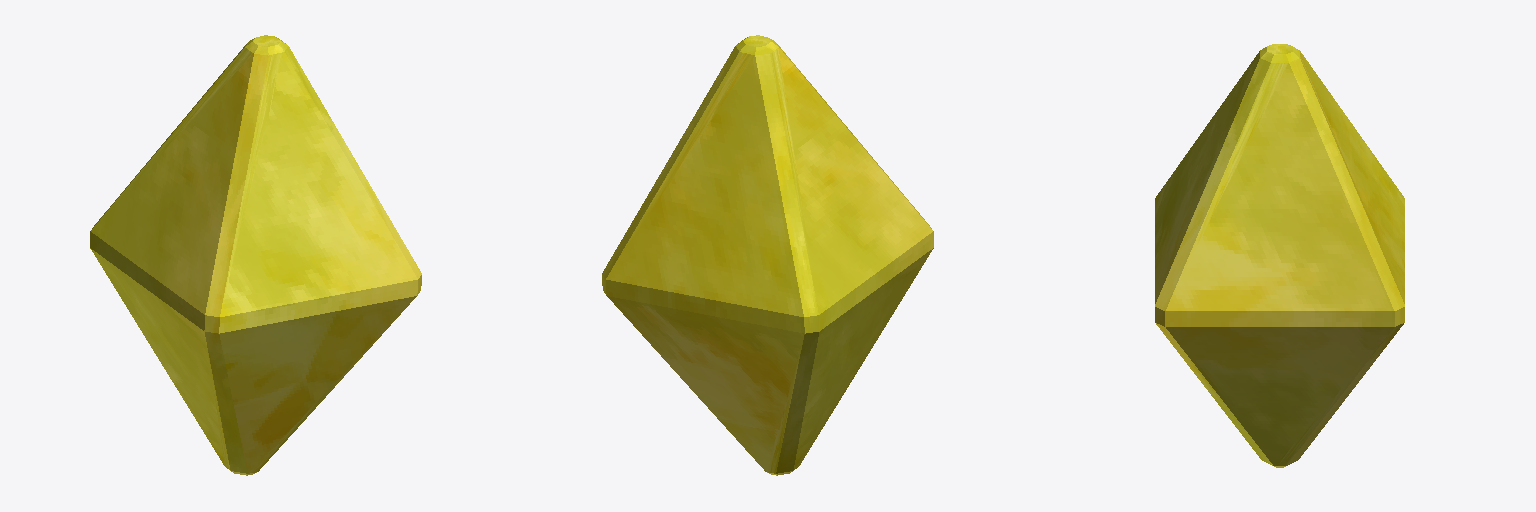
The picture shows the model from 3 angles: view 1: azimuth 30°, elevation 25°; view 2: azimuth 150°, elevation 25°; view 3: azimuth 270°, elevation 25°; orthographic projection.
Parts seen in each view (by area): view 1: Cube.001_Cube.000; view 2: Cube.001_Cube.000; view 3: Cube.001_Cube.000.
Part boxes in pixels (left/top/right/bottom): Cube.001_Cube.000: left=90, top=35, right=421, bottom=475; Cube.001_Cube.000: left=602, top=35, right=933, bottom=475; Cube.001_Cube.000: left=1155, top=44, right=1404, bottom=467.
Bounding box in the file's own units: 0.5709 × 1.06 × 0.57.
2 materials, 2 textured.